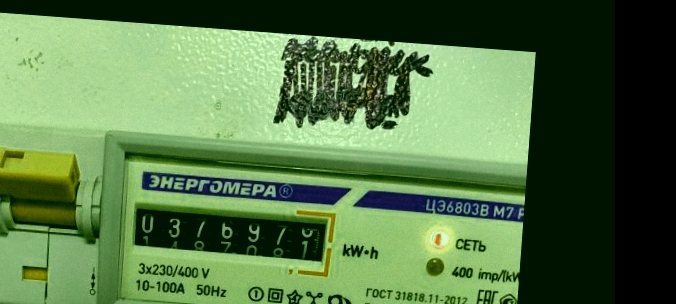0: (139, 210, 155, 233)
1: (298, 237, 309, 260)
3: (166, 215, 181, 237)
6: (218, 215, 235, 239)
7: (192, 214, 208, 238), (272, 220, 288, 244)
9: (245, 219, 261, 242)
screen: (120, 192, 339, 280)
